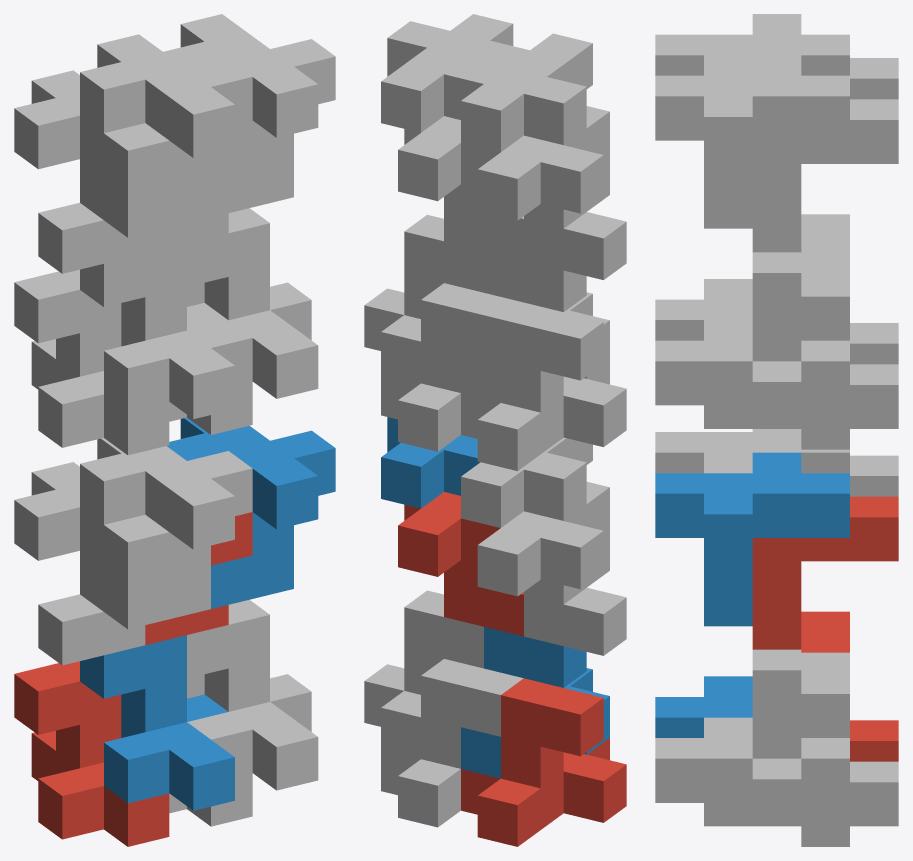
The model's file is tiling.obj.
3 views of the same model, side by side, from view 1: azimuth 30°, elevation 25°; view 2: azimuth 150°, elevation 25°; view 3: azimuth 270°, elevation 25° (orthographic). The views are drawn at different scales.
Visible parts, largest first — view 1: copy_2_domain_4, copy_2_domain_2, copy_1_domain_2, copy_1_domain_4, copy_2_domain_1, copy_2_domain_3, copy_1_domain_1, copy_1_domain_3, copy_1_domain_8, copy_1_domain_6, copy_2_domain_8, copy_2_domain_6 (+4 smaller); view 2: copy_1_domain_1, copy_1_domain_3, copy_2_domain_3, copy_2_domain_1, copy_2_domain_4, copy_1_domain_7, copy_1_domain_5, copy_2_domain_8, copy_2_domain_7, copy_2_domain_5, copy_1_domain_8, copy_1_domain_6 (+4 smaller); view 3: copy_1_domain_8, copy_1_domain_6, copy_2_domain_8, copy_2_domain_6, copy_1_domain_5, copy_1_domain_7, copy_2_domain_5, copy_2_domain_7, copy_2_domain_4, copy_2_domain_2, copy_1_domain_1, copy_1_domain_3 (+4 smaller).
Part boxes in pixels (<box>): copy_2_domain_4: <box>80,34,252,237</box>; copy_2_domain_2: <box>80,438,252,629</box>; copy_1_domain_2: <box>80,635,234,810</box>; copy_1_domain_4: <box>80,243,234,419</box>; copy_2_domain_1: <box>14,462,169,665</box>; copy_2_domain_3: <box>14,70,169,273</box>; copy_1_domain_1: <box>14,661,169,846</box>; copy_1_domain_3: <box>14,269,169,455</box>; copy_1_domain_8: <box>187,208,318,398</box>; copy_1_domain_6: <box>187,600,318,790</box>; copy_2_domain_8: <box>163,14,335,217</box>; copy_2_domain_6: <box>167,417,335,608</box>; copy_1_domain_1: <box>461,678,626,846</box>; copy_1_domain_3: <box>461,302,626,470</box>; copy_2_domain_3: <box>477,106,626,279</box>; copy_2_domain_1: <box>477,482,626,655</box>; copy_2_domain_4: <box>461,33,609,211</box>; copy_1_domain_7: <box>381,283,523,451</box>; copy_1_domain_5: <box>381,659,523,827</box>; copy_2_domain_8: <box>381,14,513,132</box>; copy_2_domain_7: <box>398,116,523,260</box>; copy_2_domain_5: <box>398,492,523,636</box>; copy_1_domain_8: <box>364,214,483,383</box>; copy_1_domain_6: <box>364,590,483,758</box>; copy_1_domain_8: <box>655,252,849,425</box>; copy_1_domain_6: <box>655,649,849,823</box>; copy_2_domain_8: <box>655,55,849,228</box>; copy_2_domain_6: <box>655,452,849,626</box>; copy_1_domain_5: <box>704,652,898,846</box>; copy_1_domain_7: <box>704,255,898,449</box>; copy_2_domain_5: <box>752,496,898,649</box>; copy_2_domain_7: <box>752,99,898,252</box>; copy_2_domain_4: <box>655,14,849,75</box>; copy_2_domain_2: <box>655,429,849,473</box>; copy_1_domain_1: <box>801,611,898,761</box>; copy_1_domain_3: <box>801,214,898,364</box>.
Size of the model in its own units: 6 by 17 by 5.
